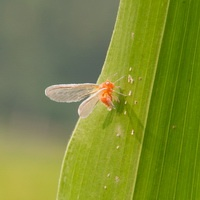insect: (45, 80, 131, 117)
